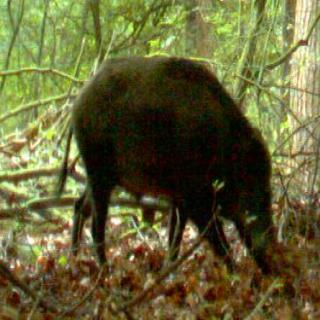Pig: (51, 17, 301, 281)
